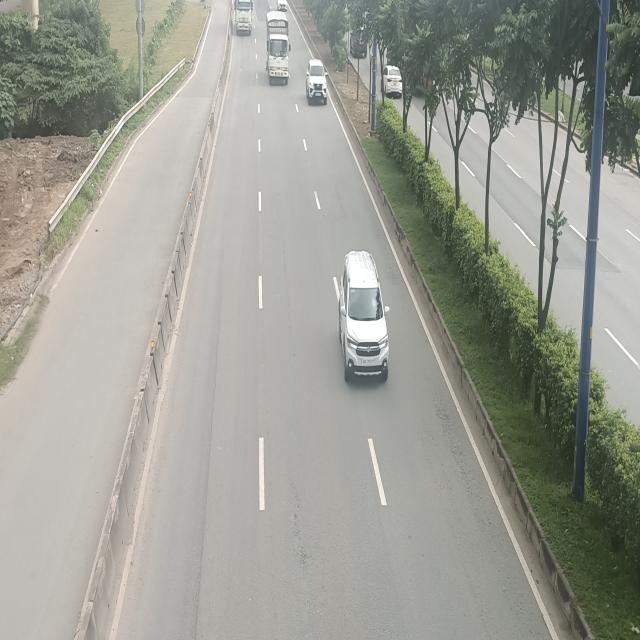car: (337, 253, 389, 385), (306, 58, 329, 105)
truck: (266, 12, 291, 84), (233, 0, 252, 34)
